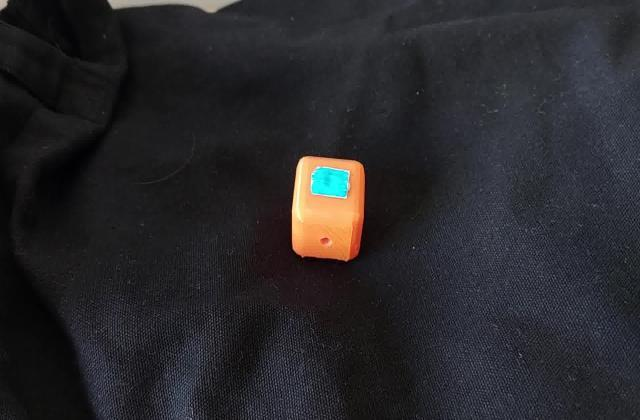blue: (317, 170, 347, 196)
sticker: (287, 148, 365, 264)
